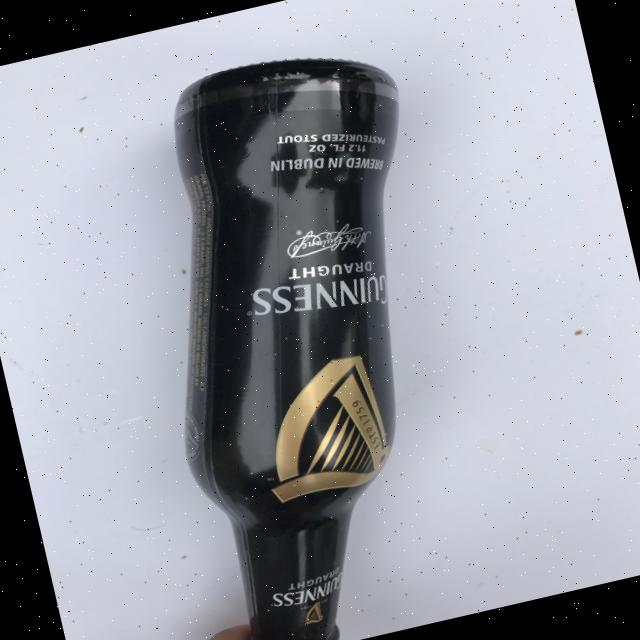glass: (101, 31, 516, 640)
